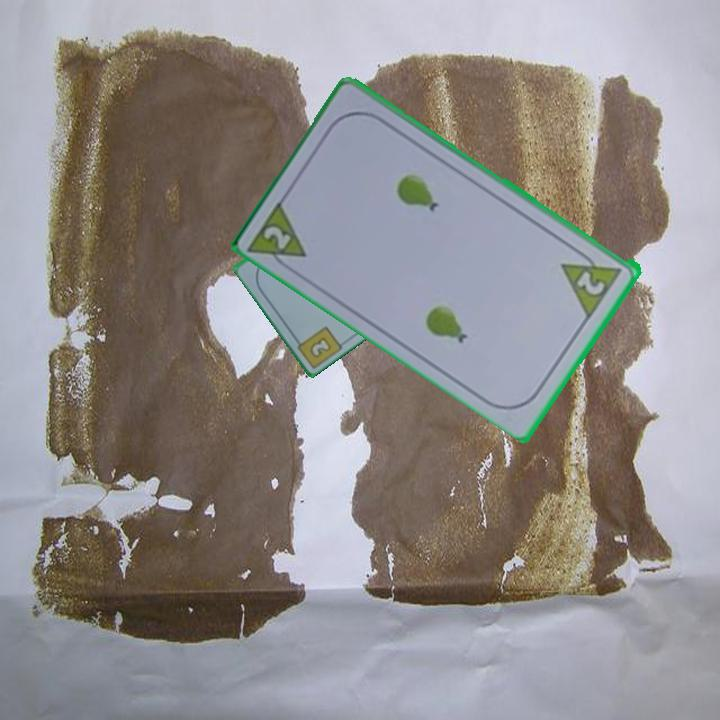2b: (308, 333, 334, 359)
2p: (558, 243, 626, 320), (260, 221, 295, 253)
